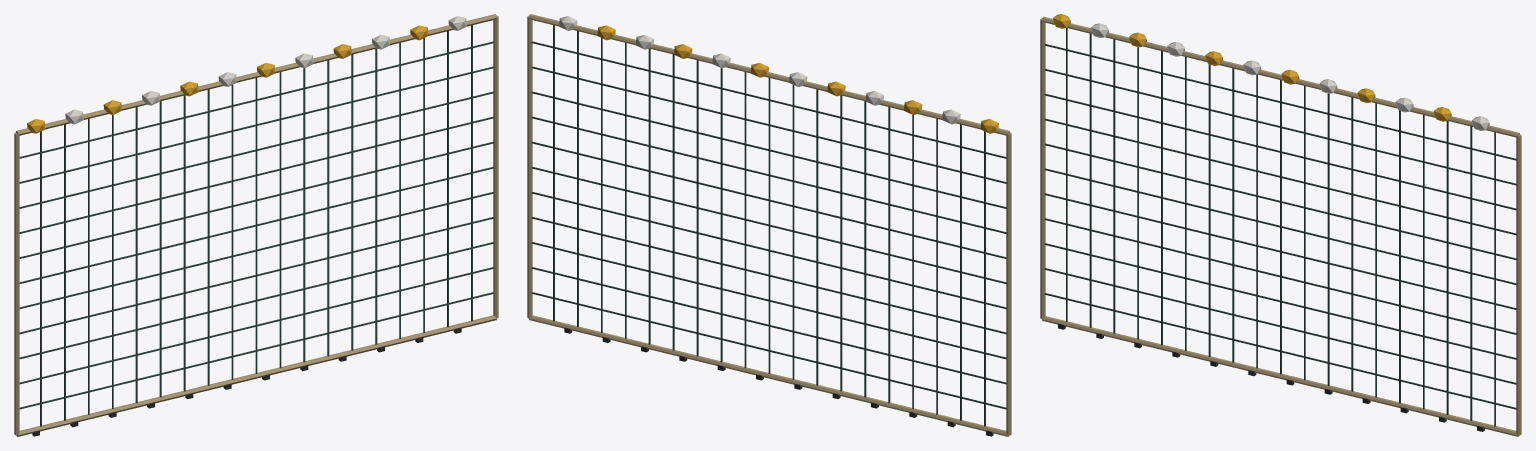
The model's file is Net_Wall.glb.
3 views of the same model, side by side, from view 1: azimuth 30°, elevation 25°; view 2: azimuth 150°, elevation 25°; view 3: azimuth 330°, elevation 25° (orthographic).
Visible parts, largest first — view 1: Net_Wall; view 2: Net_Wall; view 3: Net_Wall.
Part boxes in pixels (left/top/right/bottom): Net_Wall: left=14, top=14, right=498, bottom=436; Net_Wall: left=527, top=14, right=1011, bottom=436; Net_Wall: left=1040, top=14, right=1521, bottom=436.
Bounding box in the file's own units: 10.09 × 6.31 × 0.2552.
